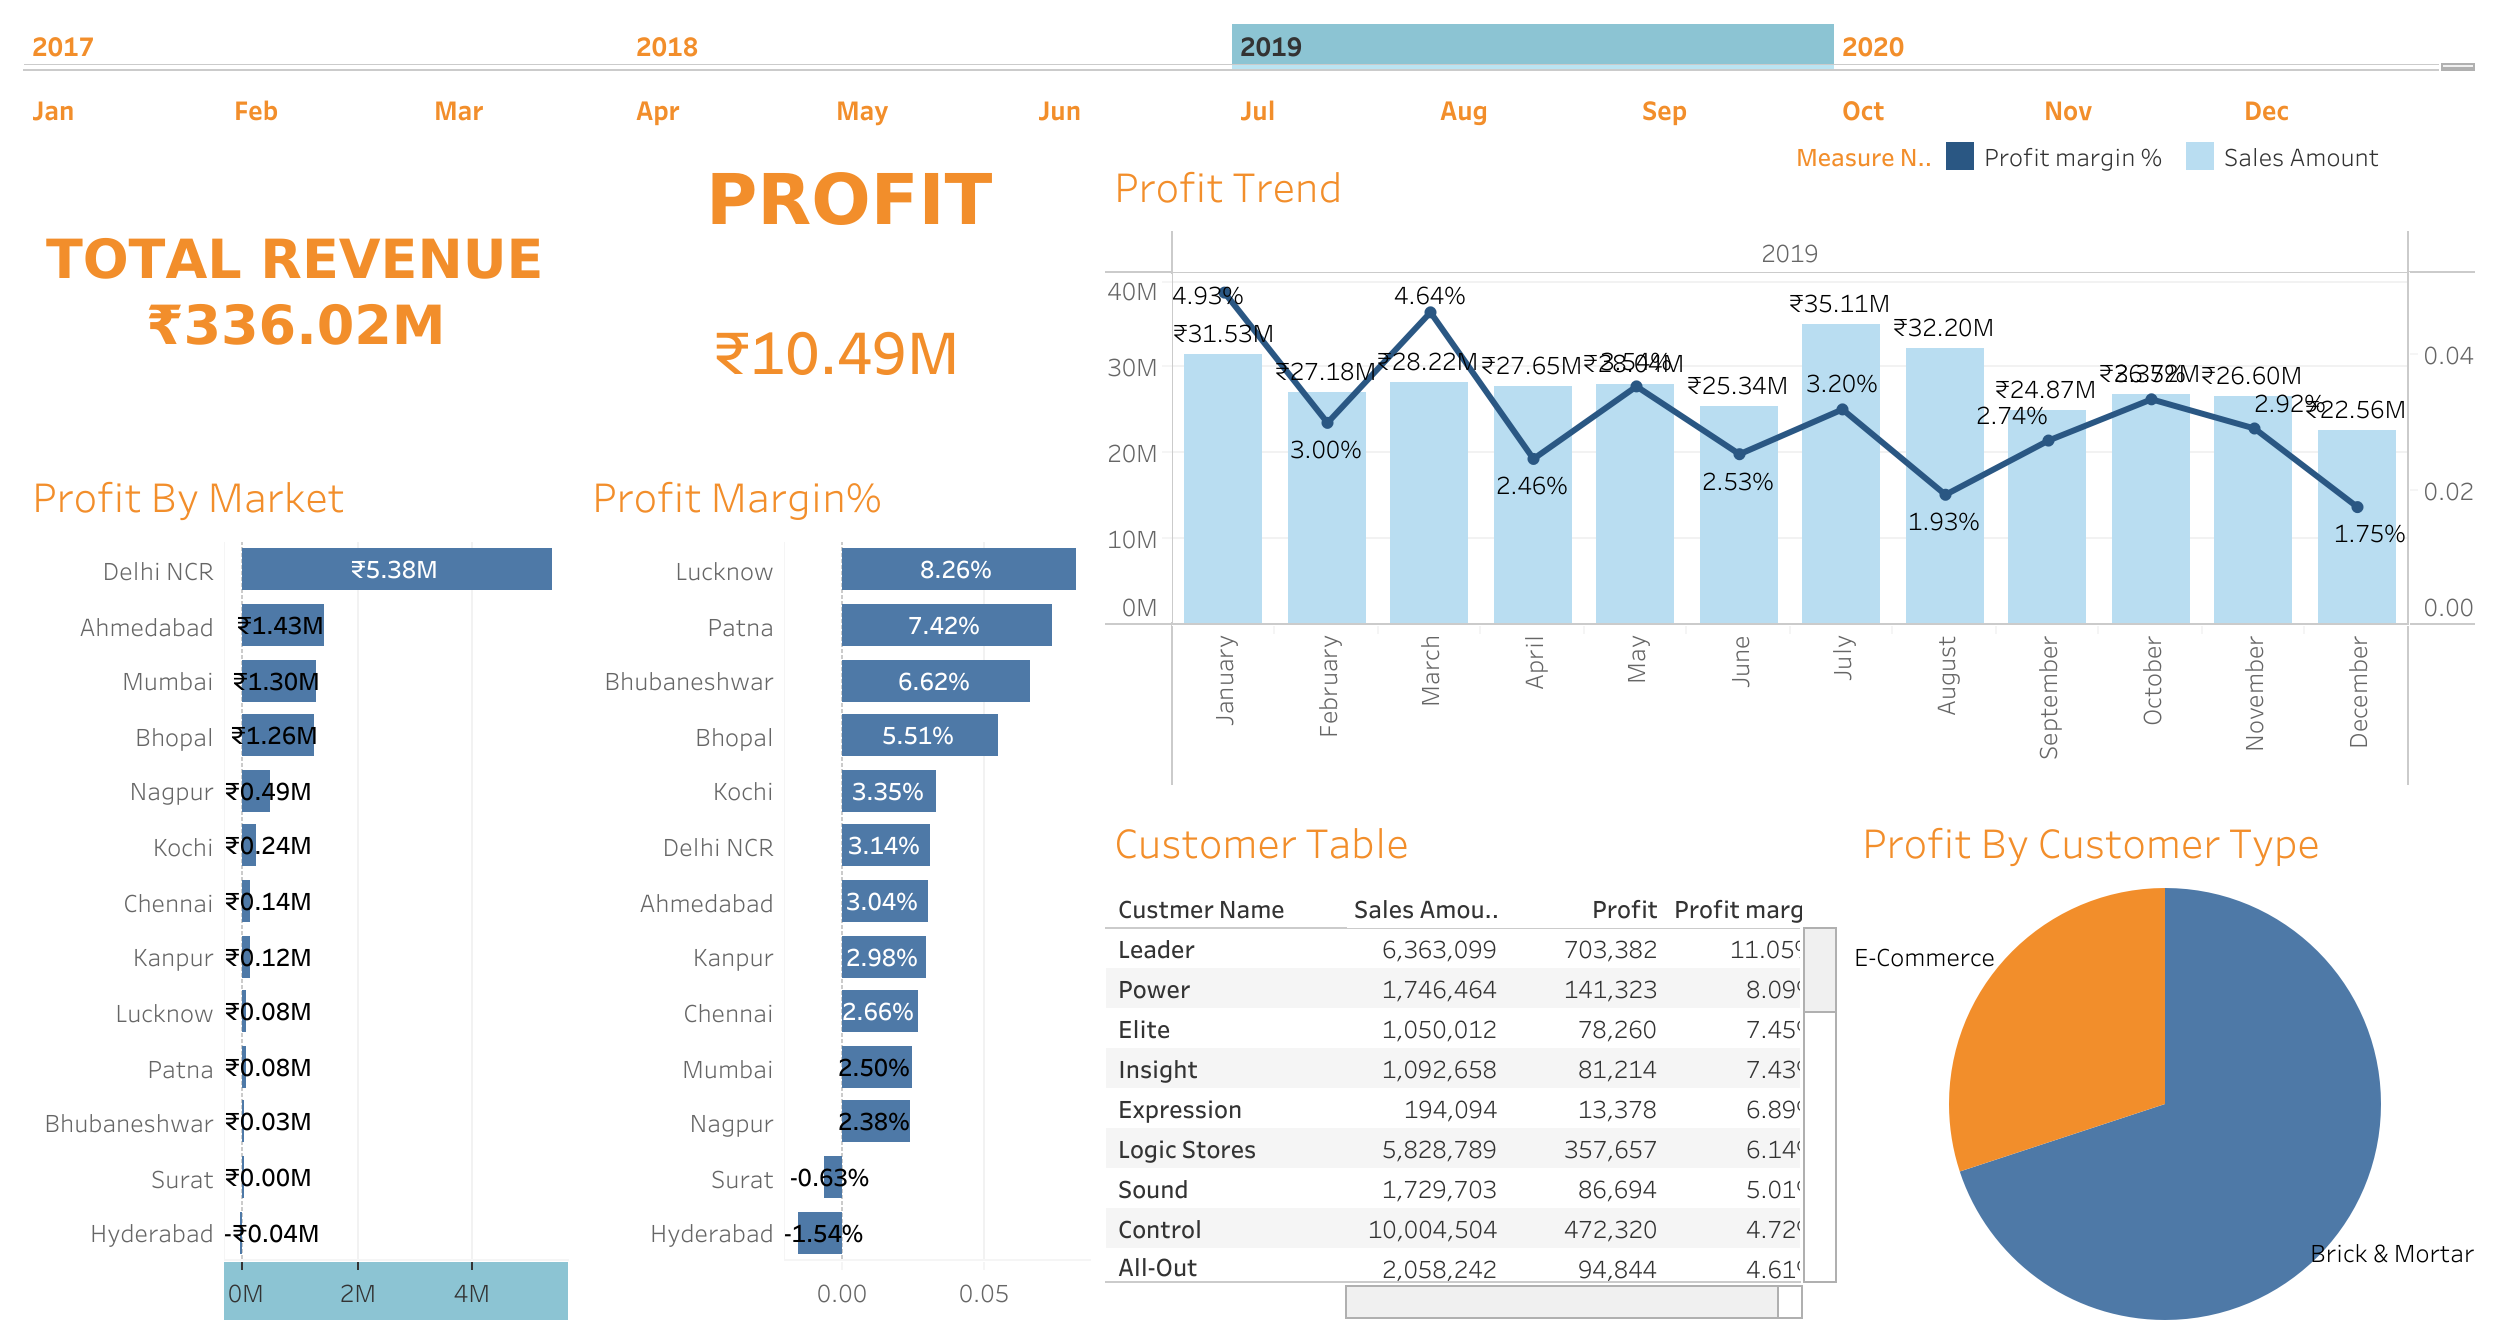

What the dashboard file says about the page in this screenshot:
{"tool":"tableau","page":{"name":"Profit Analysis ","canvas":[1000,1000],"units":"permille","ordinal":0},"visuals":[{"type":"worksheet","title":"Sheet 8","mark":"Automatic","cols":["cy_date"],"box":[6.5,10.6,987,47.7]},{"type":"worksheet","title":"Sheet 9","mark":"Automatic","cols":["cy_date"],"box":[6.5,58.3,987,43.7]},{"type":"legend","title":"Profit Trend","param":"[federated.1ytn7mb17f61m21fzitay1ofnk7m].[:Measure Names]","box":[718.4,100.7,271.8,55.6]},{"type":"worksheet","title":"REVENUE","mark":"Automatic","box":[6.5,102,224.2,230.5]},{"type":"worksheet","title":"PROFIT","mark":"Automatic","box":[230.7,102,208.6,230.5]},{"type":"worksheet","title":"Profit Trend","mark":"Line","rows":["sales_amount","Calculation_6123840006586441730"],"cols":["cy_date","cy_date"],"box":[439.2,102,554.3,488.7]},{"type":"worksheet","title":"Profit By Market","mark":"Automatic","rows":["markets_name"],"cols":["profit_margin"],"box":[6.5,332.4,224.2,657]},{"type":"worksheet","title":"Profit Margin By Markets","mark":"Automatic","rows":["markets_name"],"cols":["Calculation_6123840006586441730"],"box":[230.7,332.4,208.6,657]},{"type":"worksheet","title":"Customer Table","mark":"Automatic","rows":["custmer_name"],"box":[439.2,590.7,298.9,398.7]},{"type":"worksheet","title":"Customer Type","mark":"Pie","box":[738.1,590.7,255.4,398.7]}]}

Visuals, with their boxes on the dashboard's canvas, which has no fixed pixel size, in thousandths of its width and height (x1, y1, x2, y2). These are canvas units, not pixel positions in the 2498x1342 screenshot, which may show the page scaled, cropped or inside an application window:
"Sheet 8" worksheet: <box>6,11,994,58</box>
"Sheet 9" worksheet: <box>6,58,994,102</box>
"Profit Trend" legend: <box>718,101,990,156</box>
"REVENUE" worksheet: <box>6,102,231,332</box>
"PROFIT" worksheet: <box>231,102,439,332</box>
"Profit Trend" worksheet (Line marks): <box>439,102,994,591</box>
"Profit By Market" worksheet: <box>6,332,231,989</box>
"Profit Margin By Markets" worksheet: <box>231,332,439,989</box>
"Customer Table" worksheet: <box>439,591,738,989</box>
"Customer Type" worksheet (Pie marks): <box>738,591,994,989</box>
